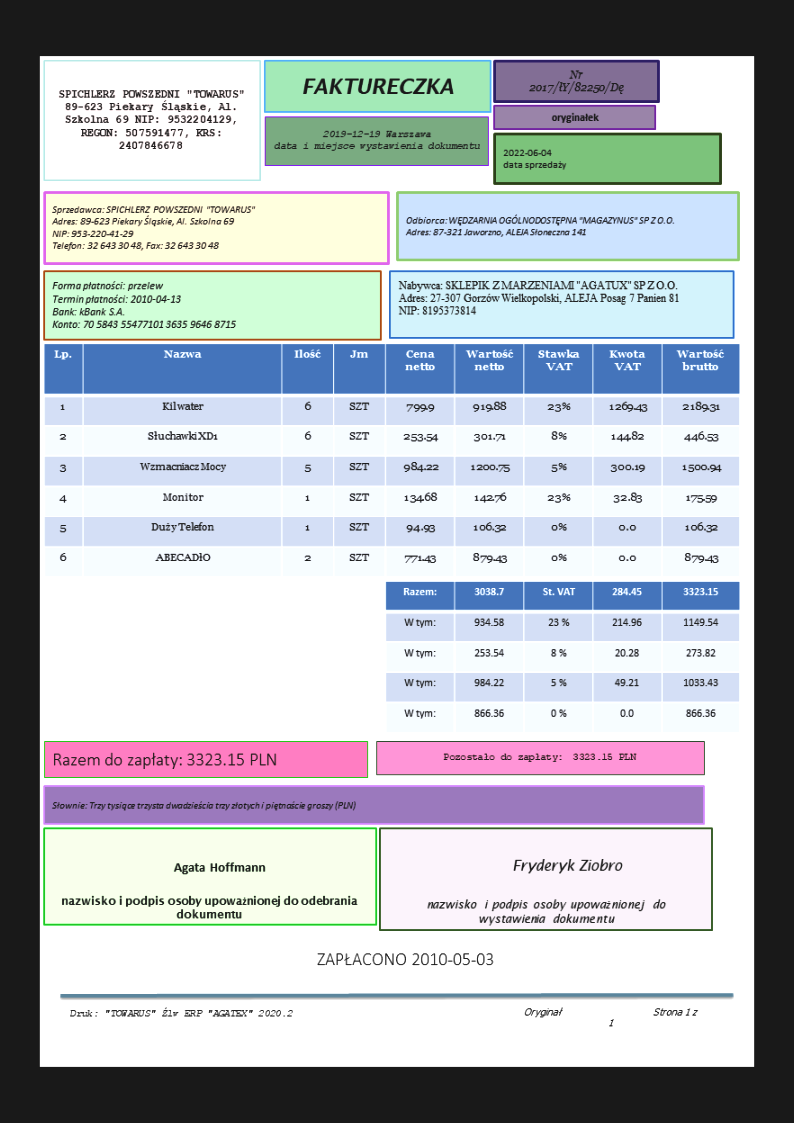Table: (43, 343, 739, 577), (384, 580, 741, 733)
TextBox: (57, 88, 245, 152), (397, 278, 682, 317), (50, 278, 238, 332), (50, 204, 258, 252), (60, 892, 358, 920), (402, 213, 677, 238), (426, 898, 667, 926), (271, 126, 482, 152), (51, 751, 277, 771), (50, 799, 357, 813), (523, 1007, 701, 1028), (315, 950, 496, 968), (302, 76, 455, 97), (528, 68, 627, 96), (69, 1007, 294, 1019), (442, 751, 637, 764), (510, 855, 625, 876), (501, 147, 568, 171), (172, 861, 266, 876), (550, 110, 600, 125)
